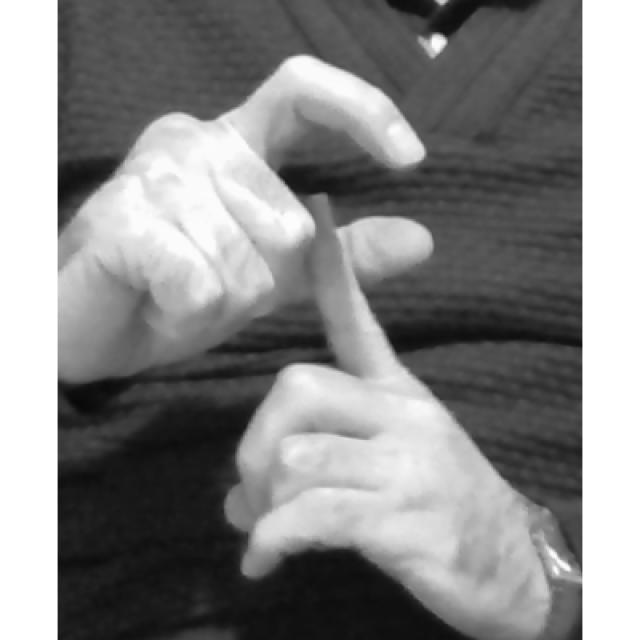C_: (64, 52, 555, 640)
